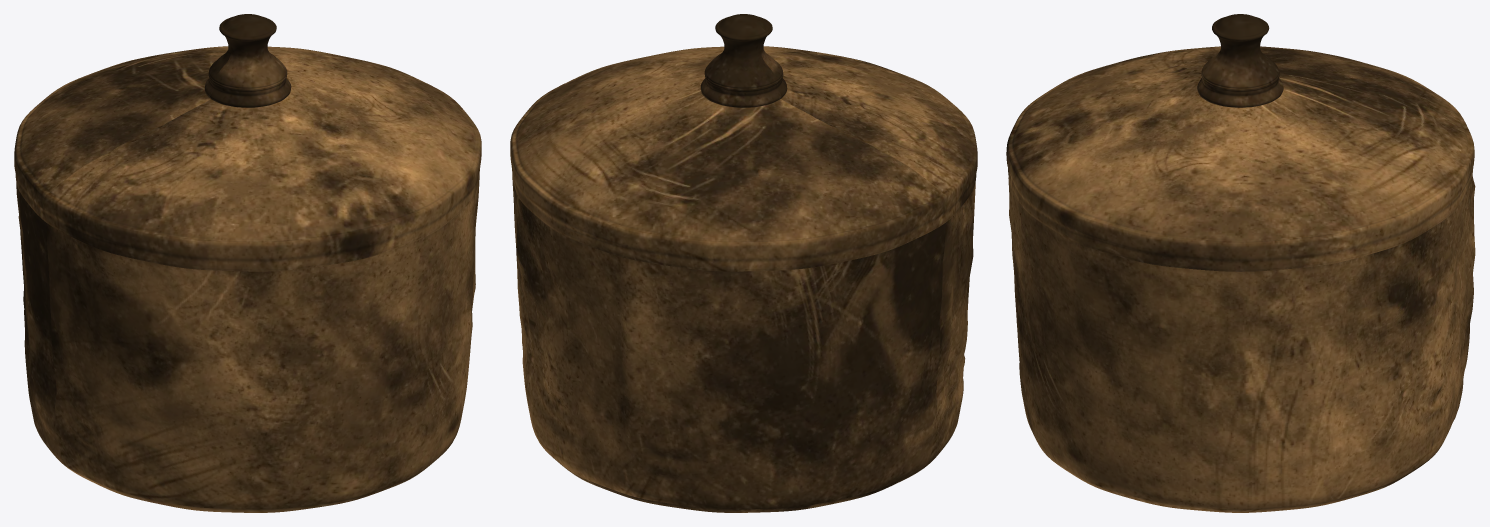
File: brass-pot.glb
The picture shows the model from 3 angles, left to right: view 1: azimuth 30°, elevation 25°; view 2: azimuth 150°, elevation 25°; view 3: azimuth 270°, elevation 25°; orthographic projection.
Visible parts, largest first — view 1: Plane; view 2: Plane; view 3: Plane.
Part boxes in pixels (box(x1,y1,x2,y2)): Plane: box(14, 14, 481, 512); Plane: box(510, 14, 977, 512); Plane: box(1006, 14, 1475, 512).
Size of the model in its own units: 0.3 by 0.293 by 0.3.
Materials: 1 (1 with a texture image).
